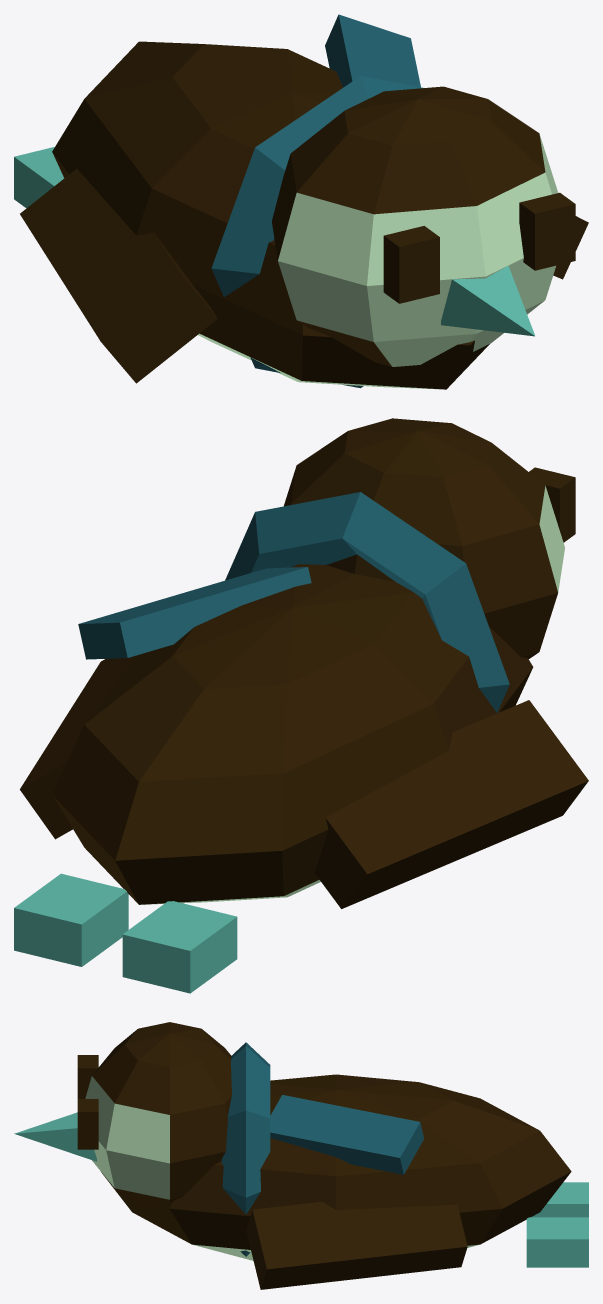
The model's file is penguin.glb.
3 renders of one model, top to bottom at view 1: azimuth 30°, elevation 25°; view 2: azimuth 150°, elevation 25°; view 3: azimuth 270°, elevation 25°, orthographic. The views are drawn at different scales.
Parts seen in each view (by area): view 1: Penguin; view 2: Penguin; view 3: Penguin.
Boxes of the visible parts, <box> form: Penguin: <box>14,14,588,389</box>; Penguin: <box>14,418,588,993</box>; Penguin: <box>14,1022,588,1289</box>.
Bounding box in the file's own units: 0.5399 × 0.35 × 0.83.
